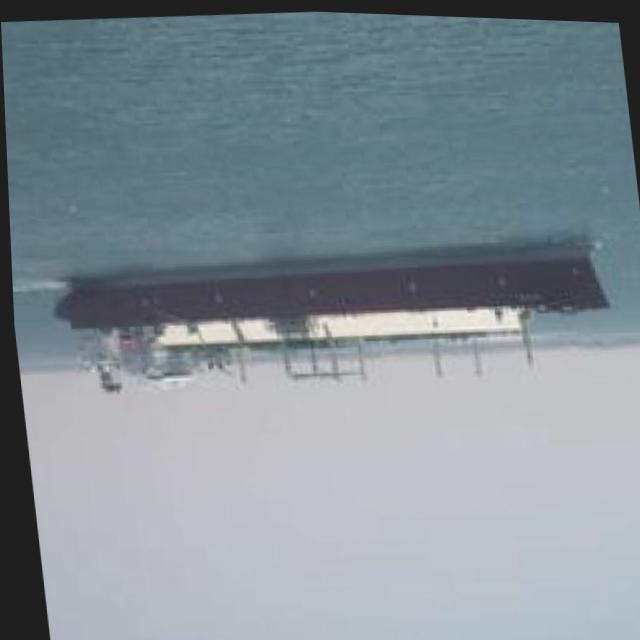ship2: (50, 246, 608, 393)
